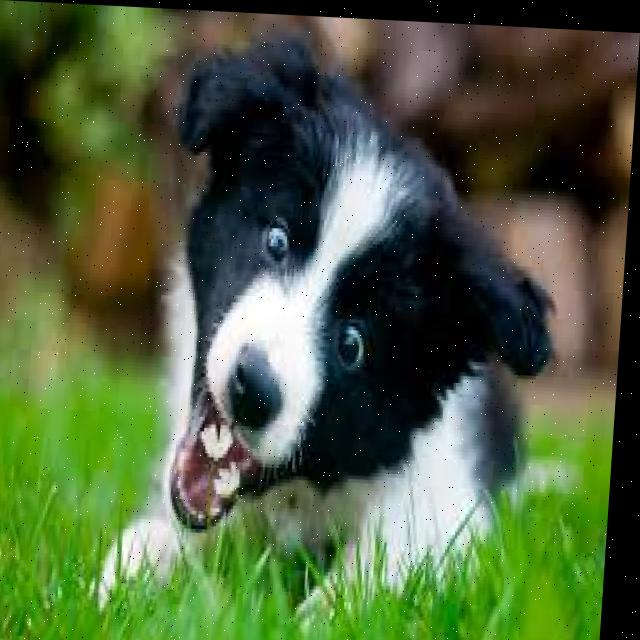ALASKAN_MALAMUTE: (87, 27, 584, 640)
